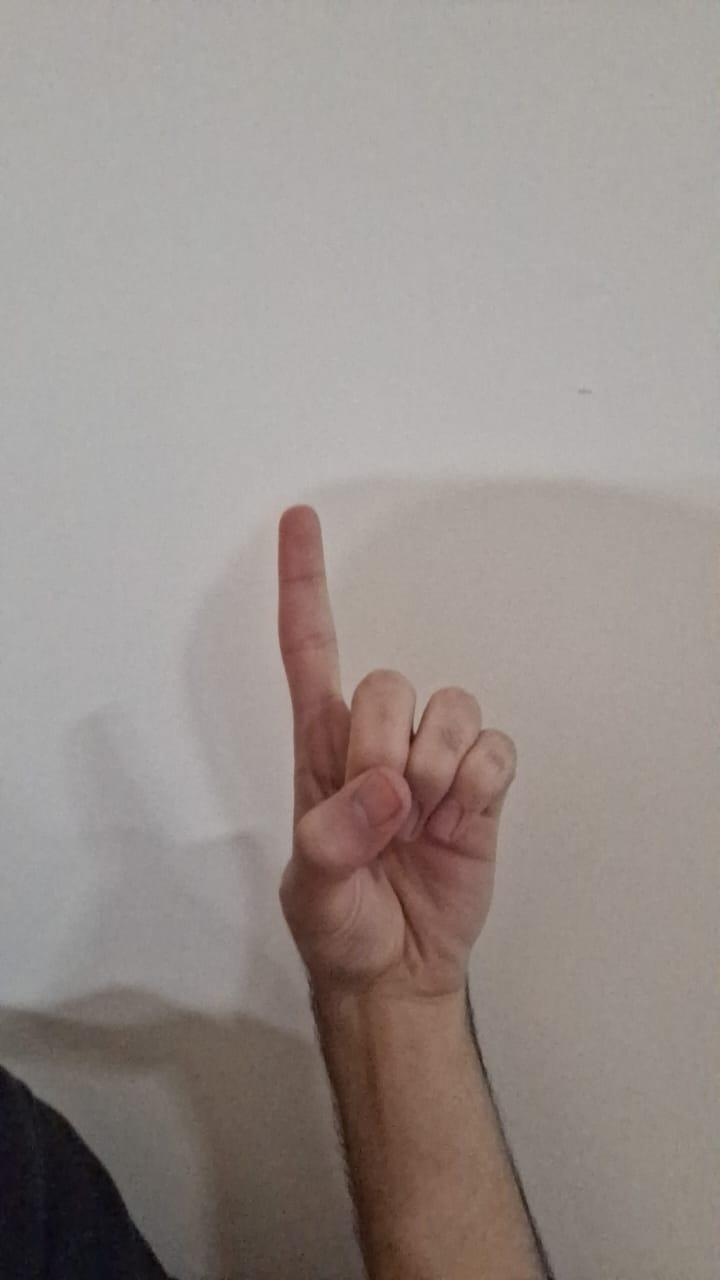D2: (260, 486, 527, 1010)
